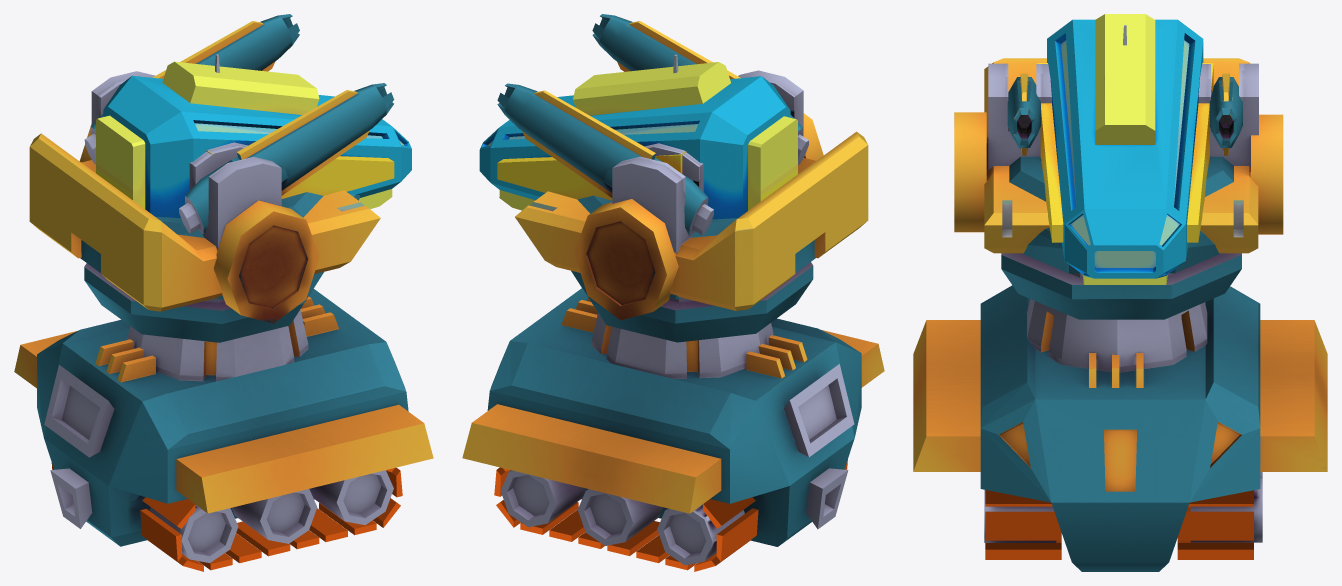
The model's file is Player_Idle_1_Upgrade18.obj.
3 renders of one model, left to right at view 1: azimuth 30°, elevation 25°; view 2: azimuth 150°, elevation 25°; view 3: azimuth 270°, elevation 25°, orthographic. The views are drawn at different scales.
Parts seen in each view (by area): view 1: Object008, Object014, Box009, Box017; view 2: Object008, Object014, Box009, Box016; view 3: Object008, Box016, Box017, Object014, Box009.
Boxes of the visible parts, <box> form: Object008: <box>14,61,433,546</box>; Object014: <box>84,14,394,234</box>; Box009: <box>149,470,393,562</box>; Box017: <box>140,467,402,571</box>; Object008: <box>462,62,884,546</box>; Object014: <box>497,14,808,236</box>; Box009: <box>500,470,744,565</box>; Box016: <box>494,467,758,571</box>; Object008: <box>913,14,1327,571</box>; Box016: <box>1177,490,1253,559</box>; Box017: <box>985,490,1061,559</box>; Object014: <box>1007,73,1242,155</box>; Box009: <box>984,472,1262,542</box>.
Size of the model in its own units: 65.77 by 84.86 by 66.14.
Materials: 4 (2 with a texture image).
